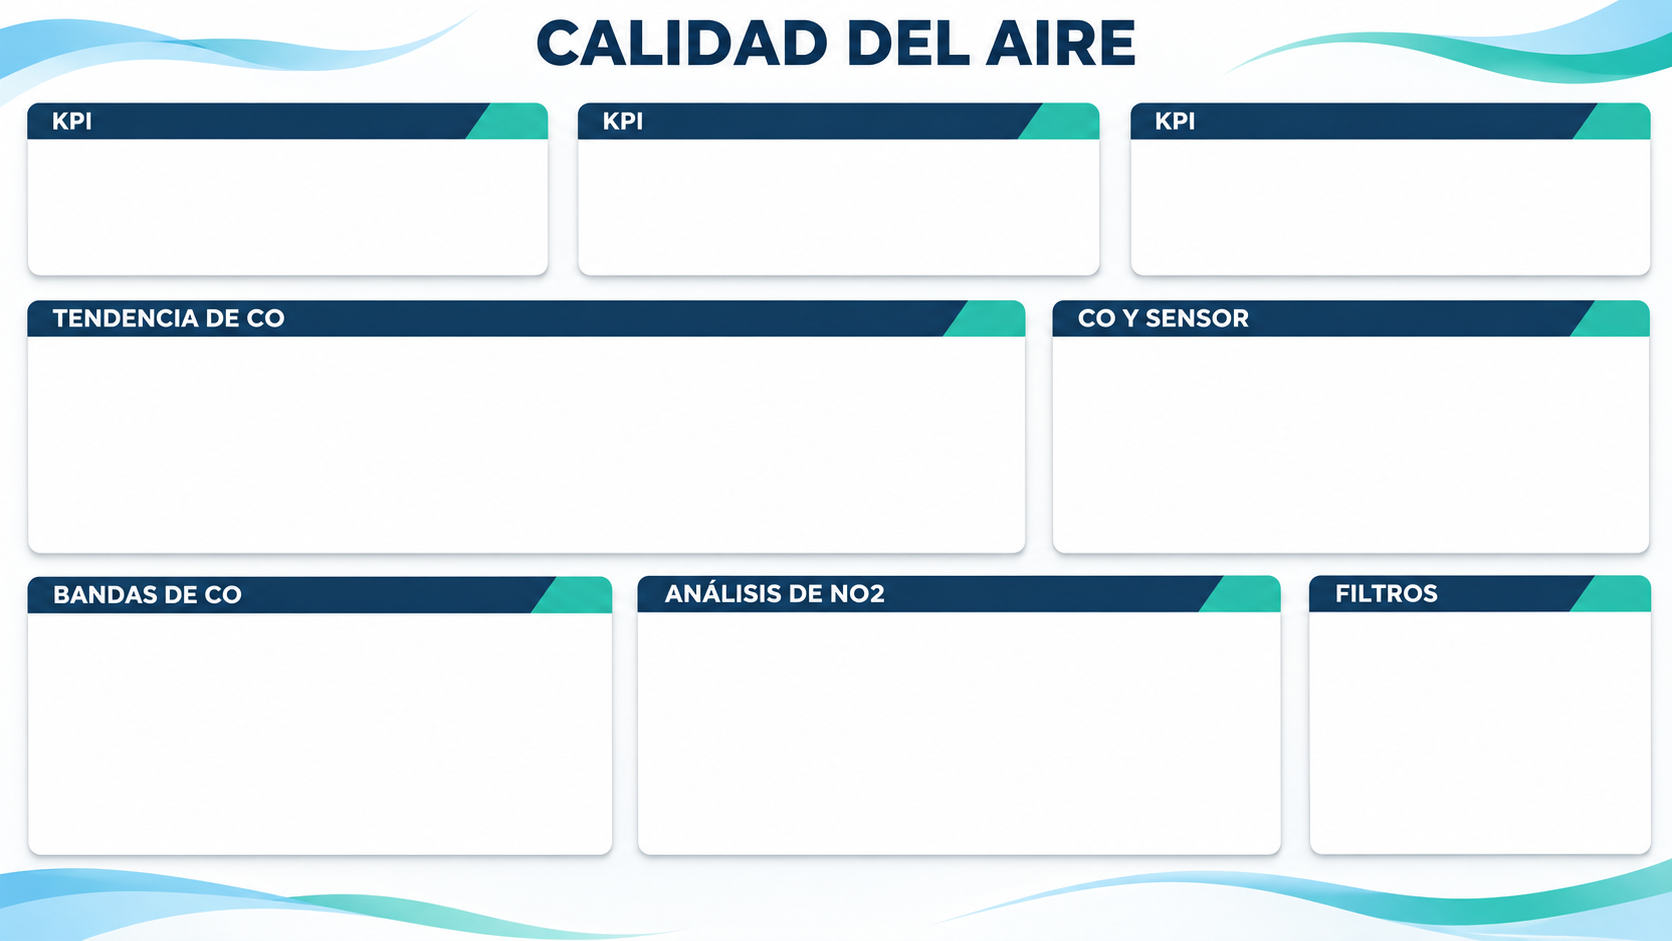

Layout of this report page (visuals, bound fields, positions):
{"tool":"powerbi","page":{"name":"Página 1","canvas":[1920,1080],"ordinal":0},"visuals":[{"type":"cardVisual","fields":{"Data":["Avg(hecho_calidad_aire.co_gt)"]},"box":[425.1,120.9,300,300],"z":0},{"type":"cardVisual","fields":{"Data":["Avg(hecho_calidad_aire.no2_gt)"]},"box":[74.7,120.9,300,300],"z":1000},{"type":"clusteredColumnChart","fields":{"Category":["hecho_calidad_aire.banda_co"],"Y":["CountNonNull(hecho_calidad_aire.banda_co)"]},"box":[758.7,120.9,300,300],"z":2000},{"type":"scatterChart","fields":{"Category":["hecho_calidad_aire.medicion_id"],"X":["Sum(hecho_calidad_aire.co_gt)"],"Y":["Sum(hecho_calidad_aire.pt08_s1_co)"]},"box":[1088,120,300,300],"z":3000},{"type":"slicer","fields":{"Values":["dim_tiempo.anio"]},"box":[74,432,300,300],"z":4000},{"type":"slicer","fields":{"Values":["dim_tiempo.mes"]},"box":[425,431,300,300],"z":5000},{"type":"slicer","fields":{"Values":["hecho_calidad_aire.banda_co"]},"box":[788.2,461.2,300,300],"z":6000},{"type":"textbox","box":[1398,120,300,300],"z":7000}]}

Visuals, with their boxes in screenshot pixels (x1, y1, x2, y2), scaled from the page's 1920x1080 canvas onto the 1672x941 screenshot:
cardVisual - Avg(hecho_calidad_aire.co_gt): {"left": 370, "top": 105, "right": 631, "bottom": 367}
cardVisual - Avg(hecho_calidad_aire.no2_gt): {"left": 65, "top": 105, "right": 326, "bottom": 367}
clusteredColumnChart - hecho_calidad_aire.banda_co x CountNonNull(hecho_calidad_aire.banda_co): {"left": 661, "top": 105, "right": 922, "bottom": 367}
scatterChart - hecho_calidad_aire.medicion_id x Sum(hecho_calidad_aire.co_gt): {"left": 947, "top": 105, "right": 1209, "bottom": 366}
slicer - dim_tiempo.anio: {"left": 64, "top": 376, "right": 326, "bottom": 638}
slicer - dim_tiempo.mes: {"left": 370, "top": 376, "right": 631, "bottom": 637}
slicer - hecho_calidad_aire.banda_co: {"left": 686, "top": 402, "right": 948, "bottom": 663}
textbox: {"left": 1217, "top": 105, "right": 1479, "bottom": 366}
